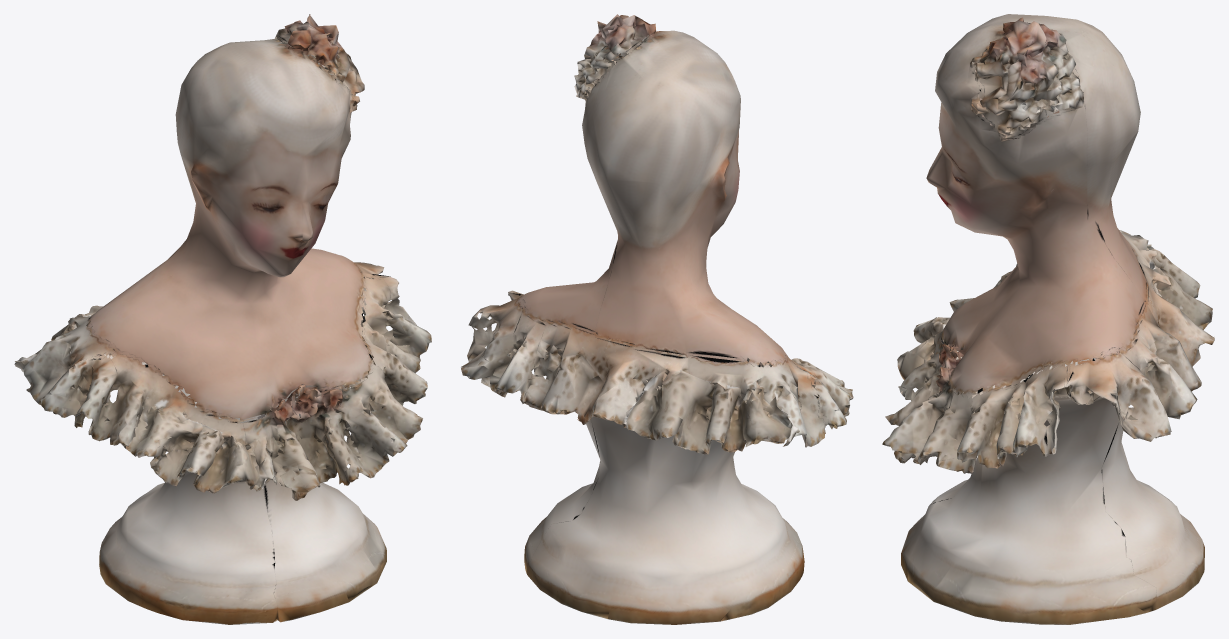
File: figurine.glb
3 renders of one model, left to right at view 1: azimuth 30°, elevation 25°; view 2: azimuth 150°, elevation 25°; view 3: azimuth 270°, elevation 25°, orthographic. The views are drawn at different scales.
Parts seen in each view (by area): view 1: Object_6, Object_3, Object_10, Object_8, Object_5, Object_9, Object_2, Object_7; view 2: Object_6, Object_3, Object_5, Object_9, Object_10, Object_2; view 3: Object_6, Object_3, Object_5, Object_8, Object_9, Object_10, Object_2.
Part boxes in pixels (x1,y1,x2,y2): Object_6: (89, 38, 372, 420); Object_3: (99, 353, 386, 624); Object_10: (40, 354, 320, 500); Object_8: (287, 276, 431, 500); Object_5: (14, 261, 390, 404); Object_9: (80, 14, 375, 500); Object_2: (90, 35, 364, 415); Object_7: (65, 264, 372, 419); Object_6: (520, 30, 786, 363); Object_3: (524, 416, 804, 624); Object_5: (461, 293, 825, 454); Object_9: (574, 14, 815, 385); Object_10: (747, 358, 853, 428); Object_2: (517, 31, 788, 364); Object_6: (926, 14, 1147, 393); Object_3: (899, 358, 1204, 624); Object_5: (1066, 230, 1214, 441); Object_8: (882, 348, 1068, 473); Object_9: (899, 17, 1083, 398); Object_10: (885, 263, 1017, 425); Object_2: (943, 32, 1148, 388).
Bounding box in the file's own units: 18.95 × 26.82 × 14.01.
1 material, 1 textured.
